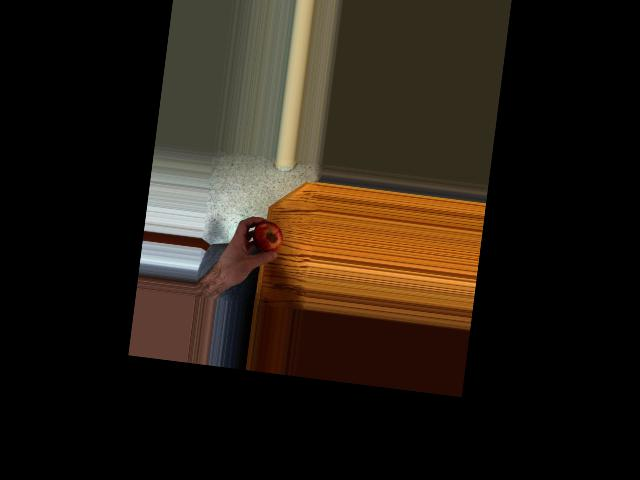apple: (251, 218, 284, 256)
